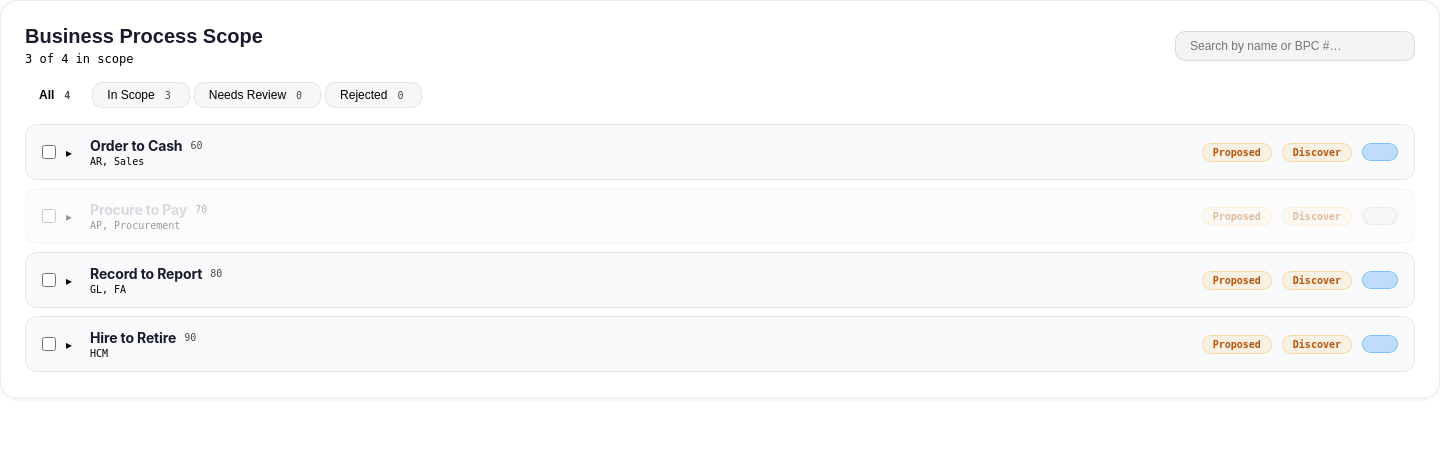
Scenario: BusinessProcessPage Review UX › Bulk selection › bulk approve sets selected items to Approved
The width and height of the screenshot is (1440, 474).
Click the checkbox with test id "checkbox-e1" at (49, 152), box [42,145,56,159]
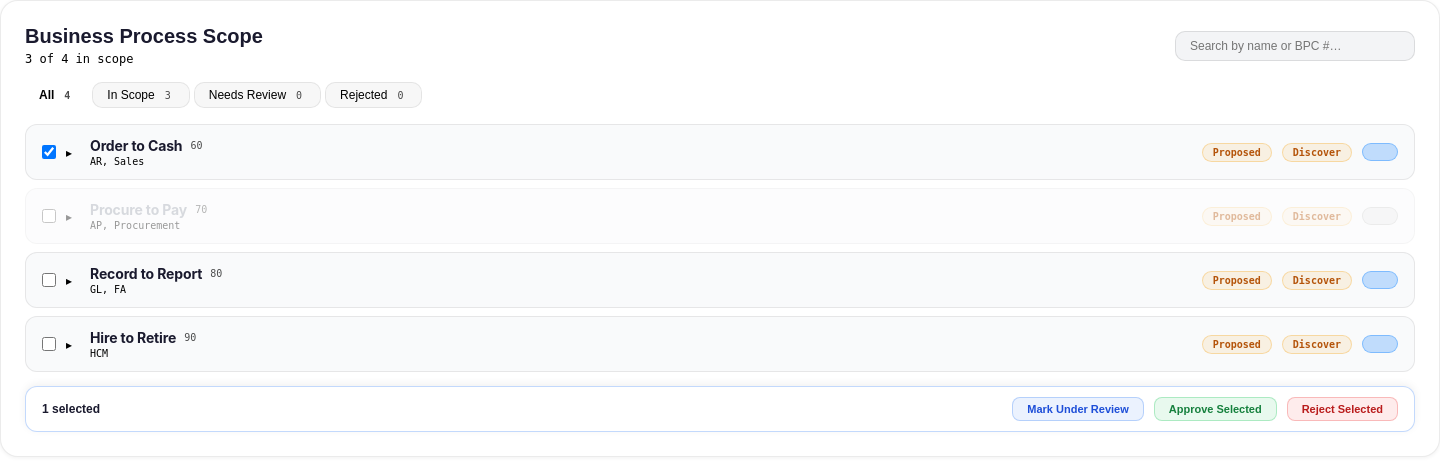
Click the button with test id "bulk-approve" at (1215, 409), box [1154,397,1277,421]
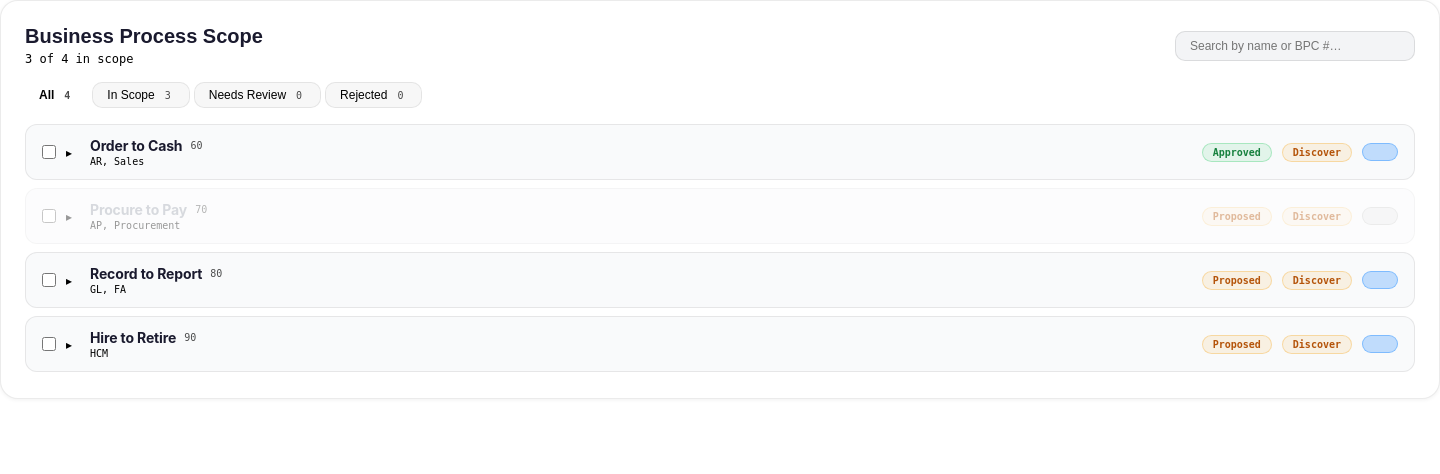
// Open panel to verify state
Click the element with test id "process-name-e1" at (146, 152), box [90,137,202,167]
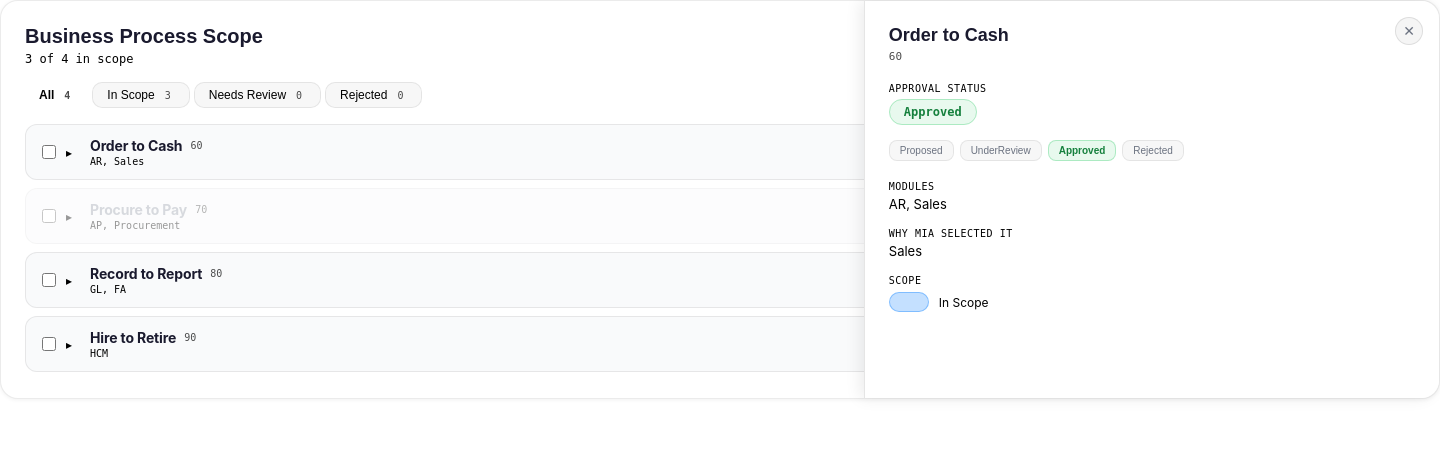
Result: the text with test id "detail-approval-badge" reads "Approved" at [904,105,962,119]
